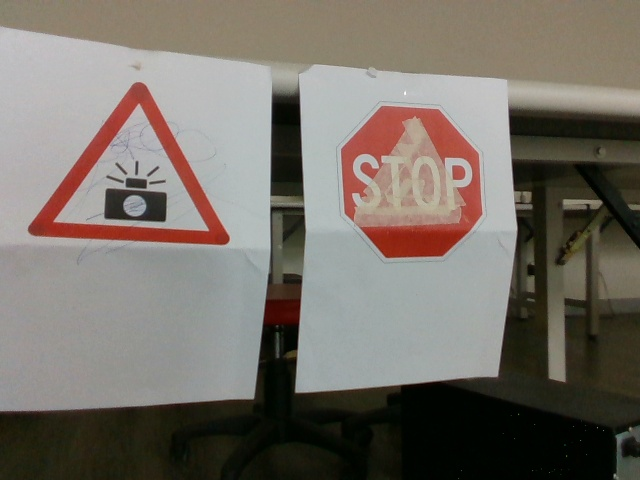camera: (31, 86, 228, 248)
stop: (345, 105, 486, 263)
